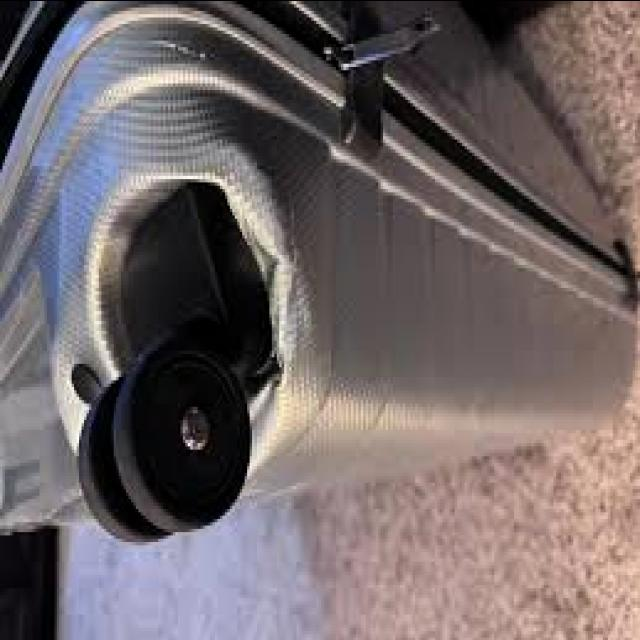Damage-bag: (70, 143, 300, 430), (151, 39, 207, 61)
